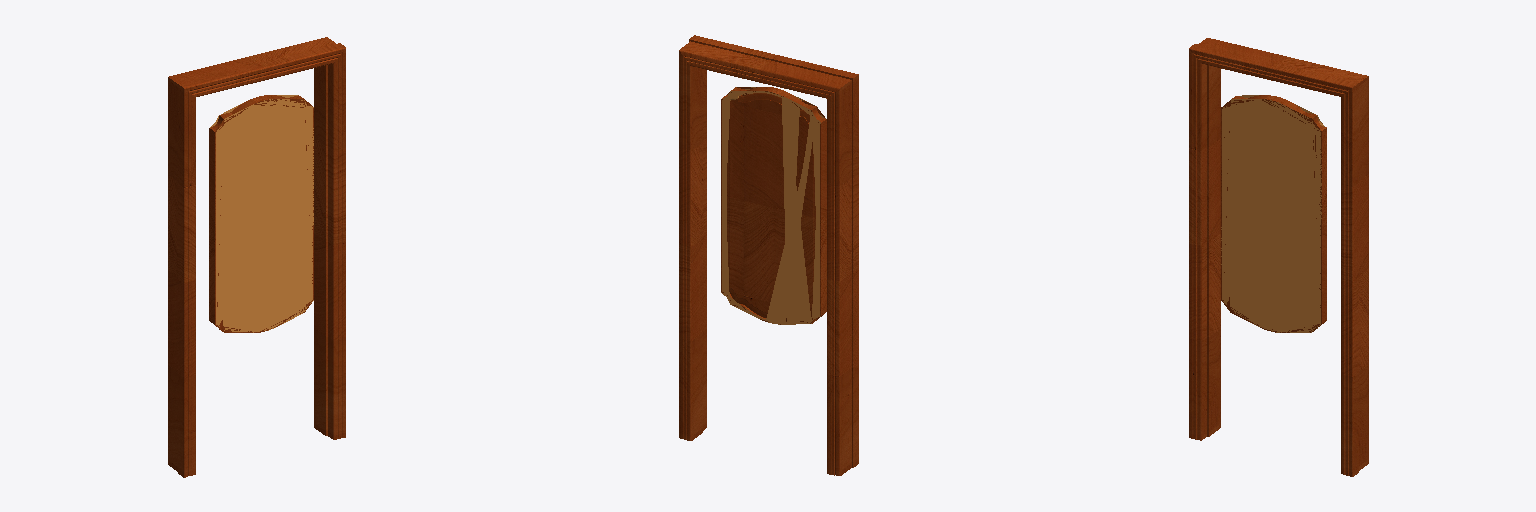
The picture shows the model from 3 angles: view 1: azimuth 30°, elevation 25°; view 2: azimuth 150°, elevation 25°; view 3: azimuth 330°, elevation 25°; orthographic projection.
Parts seen in each view (by area): view 1: obj_____11, obj_____________18; view 2: obj_____11, obj_____________18; view 3: obj_____11, obj_____________18, obj_______10.
Boxes of the visible parts, <box> form: obj_____11: <box>168,37,345,477</box>; obj_____________18: <box>210,95,313,332</box>; obj_____11: <box>679,35,858,475</box>; obj_____________18: <box>721,87,825,324</box>; obj_____11: <box>1189,38,1368,476</box>; obj_____________18: <box>1221,95,1324,332</box>; obj_______10: <box>1221,99,1321,332</box>.
Bounding box in the file's own units: 901 × 2050 × 184.
2 materials, 1 textured.